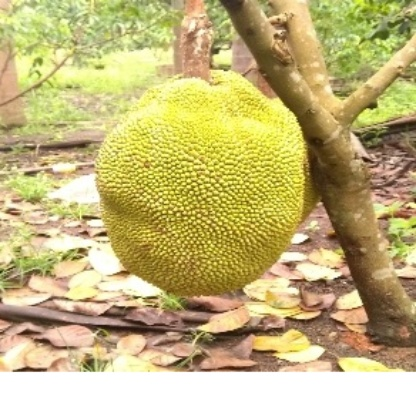mit: (98, 64, 321, 313)
